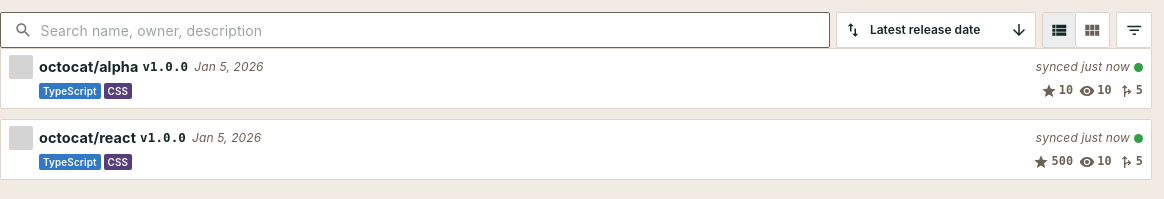
Test: SearchFilterBar + FilterDrawer (client-side) › hosts the list/card view toggle and switches views
Check: the link "octocat/alpha" is shown, box [39, 57, 138, 77]
Check: the button named "list view" is shown, box [1042, 12, 1076, 48]
What coordinates should you click on to do the following:
click the button named "card view"
I would click on:
 (1093, 30)
Its box is [1075, 12, 1110, 48].
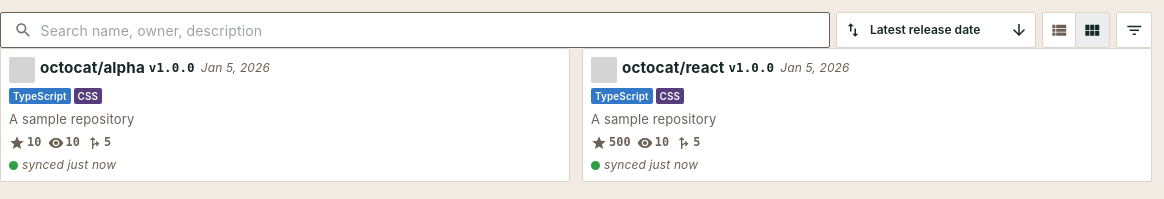
Check: the element with test id "repo-card-view" is shown
Check: the element with test id "repo-list-view" is gone
